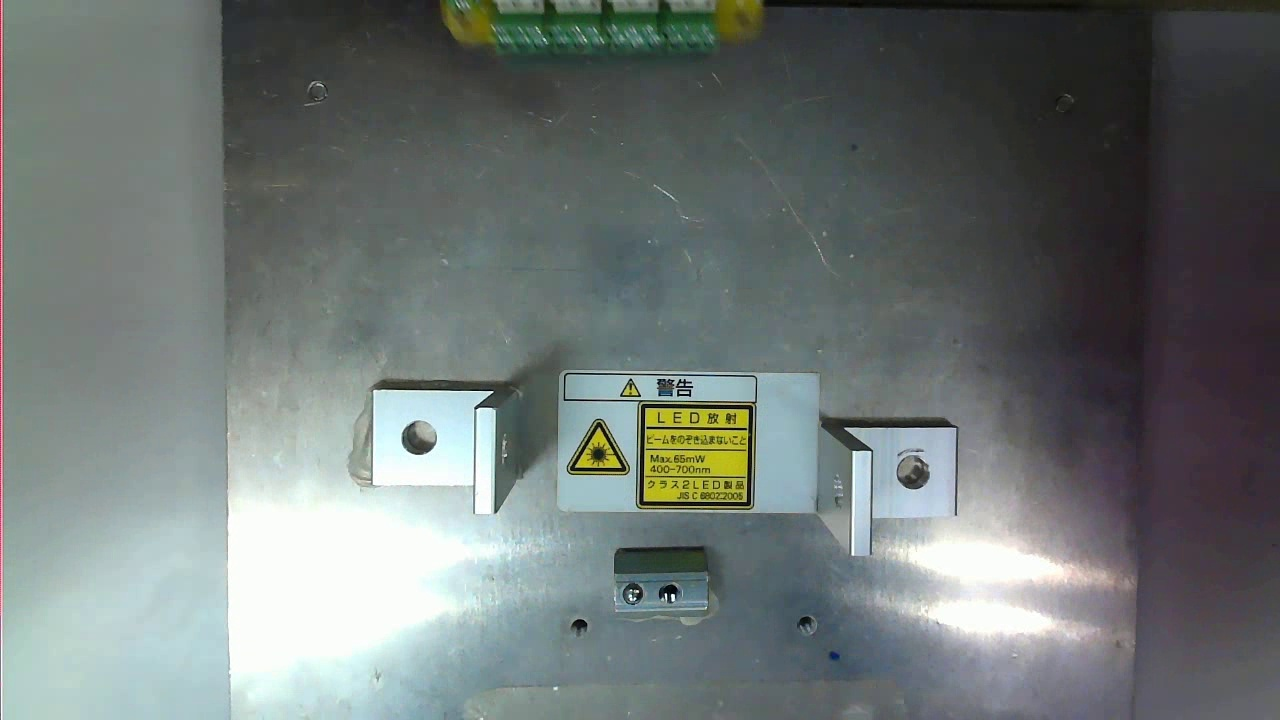can: (423, 0, 772, 66), (629, 401, 761, 517)
